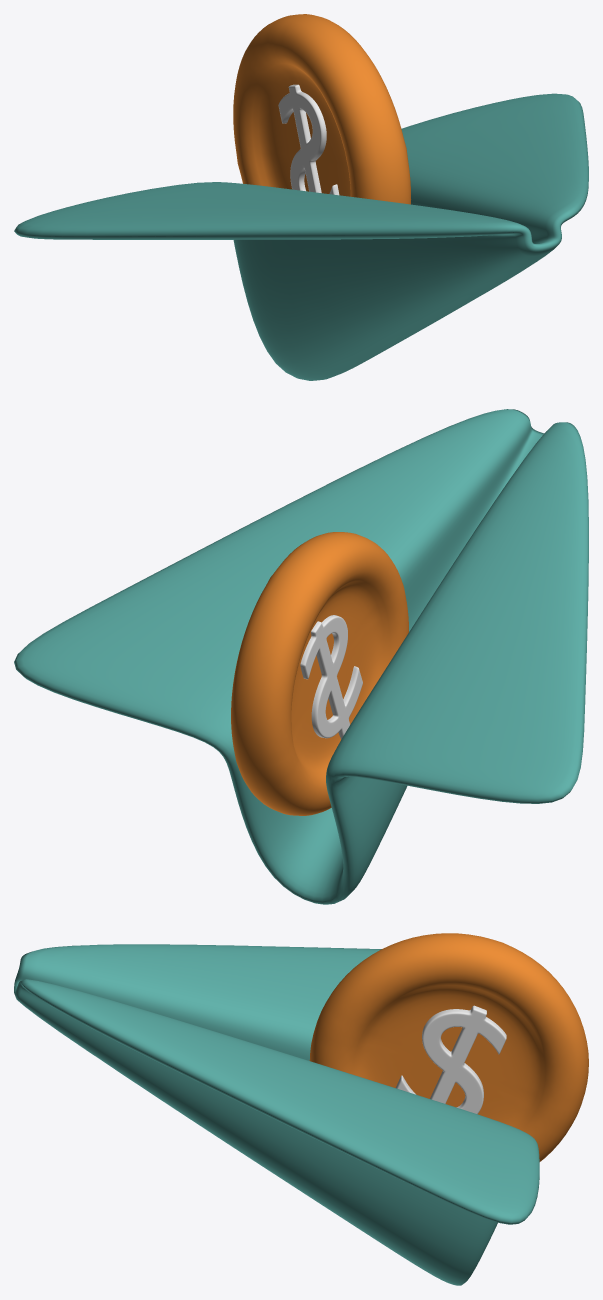
The model's file is sending-money-animated-3d-icon-969459066167.glb.
3 views of the same model, one above another, from view 1: azimuth 30°, elevation 25°; view 2: azimuth 150°, elevation 25°; view 3: azimuth 270°, elevation 25° (orthographic). The views are drawn at different scales.
Parts seen in each view (by area): view 1: Plane.001, Coin; view 2: Plane.001, Coin; view 3: Plane.001, Coin.
Part boxes in pixels (x1,y1,x2,y2): Plane.001: (14, 93, 588, 380); Coin: (233, 14, 411, 204); Plane.001: (14, 409, 588, 904); Coin: (231, 532, 408, 815); Plane.001: (14, 944, 539, 1285); Coin: (309, 933, 588, 1161).
Size of what is drawn, in the model's own units: 2.01 by 1.24 by 1.87.
